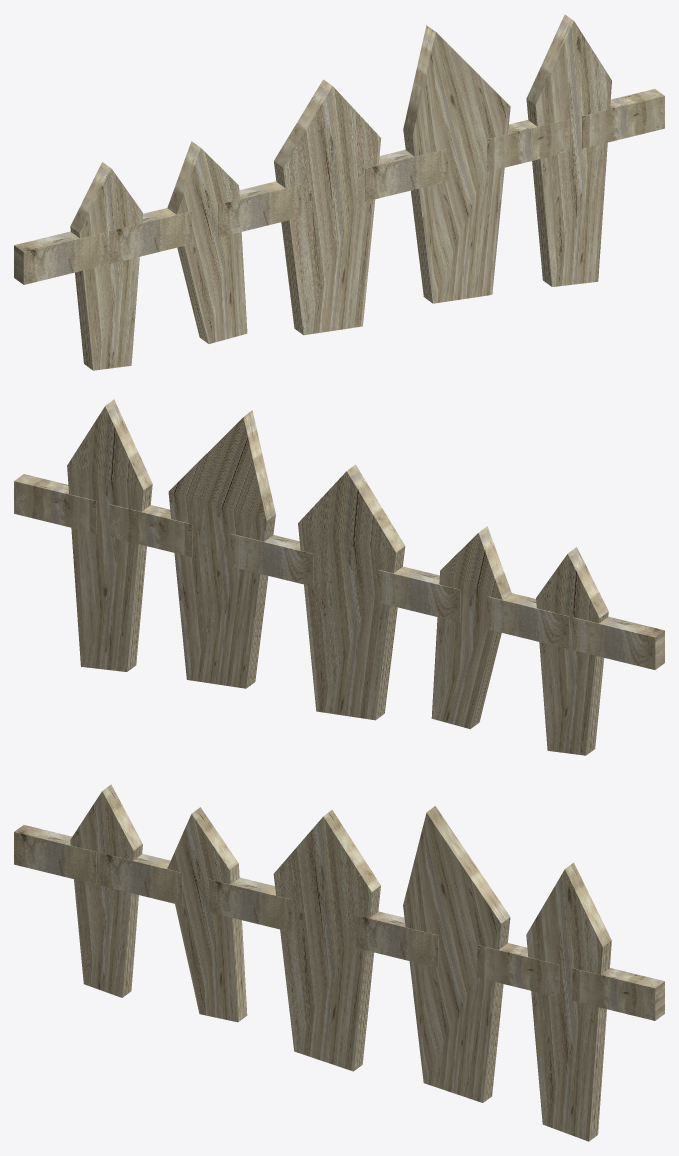
The model's file is vallas.obj.
3 renders of one model, top to bottom at view 1: azimuth 30°, elevation 25°; view 2: azimuth 150°, elevation 25°; view 3: azimuth 330°, elevation 25°, orthographic.
Parts seen in each view (by area): view 1: pasted__pCube1 group2, pCube1, group5 pasted__pasted__pasted__pCube1 pasted__pasted__group past, pasted__pCube1 group, pasted__pasted__pCube1 pasted__group group4, pasted__pasted__pCube2 pasted__group3 group7, pasted__pasted__pasted__pCube2 pasted__pasted__group3 pasted__gr, pCube2, pasted__pCube2 group1, pasted__pCube2 group3, pasted__pasted__pCube2 pasted__group3 group5; view 2: pasted__pCube1 group2, pCube1, group5 pasted__pasted__pasted__pCube1 pasted__pasted__group past, pasted__pCube1 group, pasted__pasted__pCube1 pasted__group group4, pasted__pasted__pCube2 pasted__group3 group7, pasted__pasted__pasted__pCube2 pasted__pasted__group3 pasted__gr, pCube2, pasted__pCube2 group1, pasted__pCube2 group3, pasted__pasted__pCube2 pasted__group3 group5; view 3: pasted__pCube1 group2, pCube1, group5 pasted__pasted__pasted__pCube1 pasted__pasted__group past, pasted__pCube1 group, pasted__pasted__pCube1 pasted__group group4, pasted__pasted__pasted__pCube2 pasted__pasted__group3 pasted__gr, pasted__pasted__pCube2 pasted__group3 group7, pCube2, pasted__pCube2 group3, pasted__pCube2 group1, pasted__pasted__pCube2 pasted__group3 group5.
Part boxes in pixels (bbox=[...]): pasted__pCube1 group2: bbox=[403, 25, 510, 303]; pCube1: bbox=[274, 79, 381, 335]; group5 pasted__pasted__pasted__pCube1 pasted__pasted__group past: bbox=[526, 14, 611, 286]; pasted__pCube1 group: bbox=[167, 141, 247, 343]; pasted__pasted__pCube1 pasted__group group4: bbox=[70, 162, 142, 370]; pasted__pasted__pCube2 pasted__group3 group7: bbox=[14, 231, 106, 284]; pasted__pasted__pasted__pCube2 pasted__pasted__group3 pasted__gr: bbox=[582, 89, 664, 148]; pCube2: bbox=[218, 181, 301, 237]; pasted__pCube2 group1: bbox=[365, 149, 448, 201]; pasted__pCube2 group3: bbox=[109, 208, 191, 263]; pasted__pasted__pCube2 pasted__group3 group5: bbox=[487, 119, 569, 171]; pasted__pCube1 group2: bbox=[168, 410, 275, 688]; pCube1: bbox=[298, 464, 405, 720]; group5 pasted__pasted__pasted__pCube1 pasted__pasted__group past: bbox=[67, 399, 152, 671]; pasted__pCube1 group: bbox=[431, 526, 511, 729]; pasted__pasted__pCube1 pasted__group group4: bbox=[536, 547, 608, 755]; pasted__pasted__pCube2 pasted__group3 group7: bbox=[572, 616, 664, 669]; pasted__pasted__pasted__pCube2 pasted__pasted__group3 pasted__gr: bbox=[14, 474, 96, 533]; pCube2: bbox=[377, 566, 460, 622]; pasted__pCube2 group1: bbox=[230, 534, 313, 586]; pasted__pCube2 group3: bbox=[487, 593, 569, 649]; pasted__pasted__pCube2 pasted__group3 group5: bbox=[109, 504, 192, 556]; pasted__pCube1 group2: bbox=[403, 806, 510, 1102]; pCube1: bbox=[273, 810, 380, 1071]; group5 pasted__pasted__pasted__pCube1 pasted__pasted__group past: bbox=[526, 862, 611, 1141]; pasted__pCube1 group: bbox=[167, 807, 247, 1022]; pasted__pasted__pCube1 pasted__group group4: bbox=[70, 784, 142, 997]; pasted__pasted__pasted__pCube2 pasted__pasted__group3 pasted__gr: bbox=[572, 968, 664, 1020]; pasted__pasted__pCube2 pasted__group3 group7: bbox=[14, 825, 96, 884]; pCube2: bbox=[209, 877, 291, 932]; pasted__pCube2 group3: bbox=[99, 853, 182, 905]; pasted__pCube2 group1: bbox=[355, 911, 438, 967]; pasted__pasted__pCube2 pasted__group3 group5: bbox=[477, 943, 559, 997].
Bounding box in the file's own units: 19.01 × 8.2 × 0.5049.
Materials: 3 (3 with a texture image).
